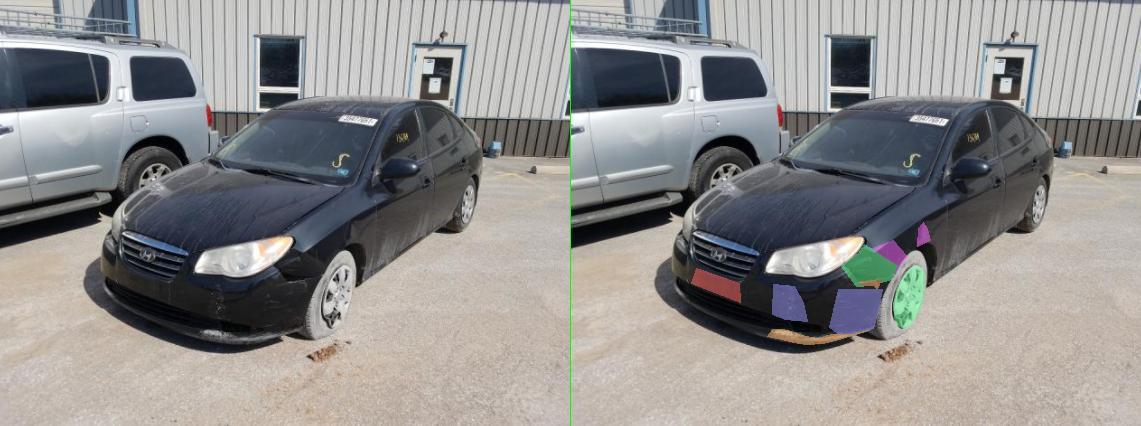Broken part: (540, 244, 653, 286), (645, 266, 707, 328)
Dent: (550, 240, 673, 282), (693, 222, 719, 246)
Missing part: (240, 268, 338, 302)
Paint chip: (392, 329, 595, 344), (573, 279, 621, 289)
Scratch: (516, 289, 623, 333), (402, 284, 472, 321)
